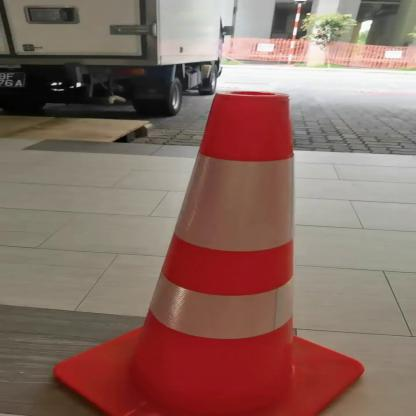cone: (46, 86, 372, 414)
